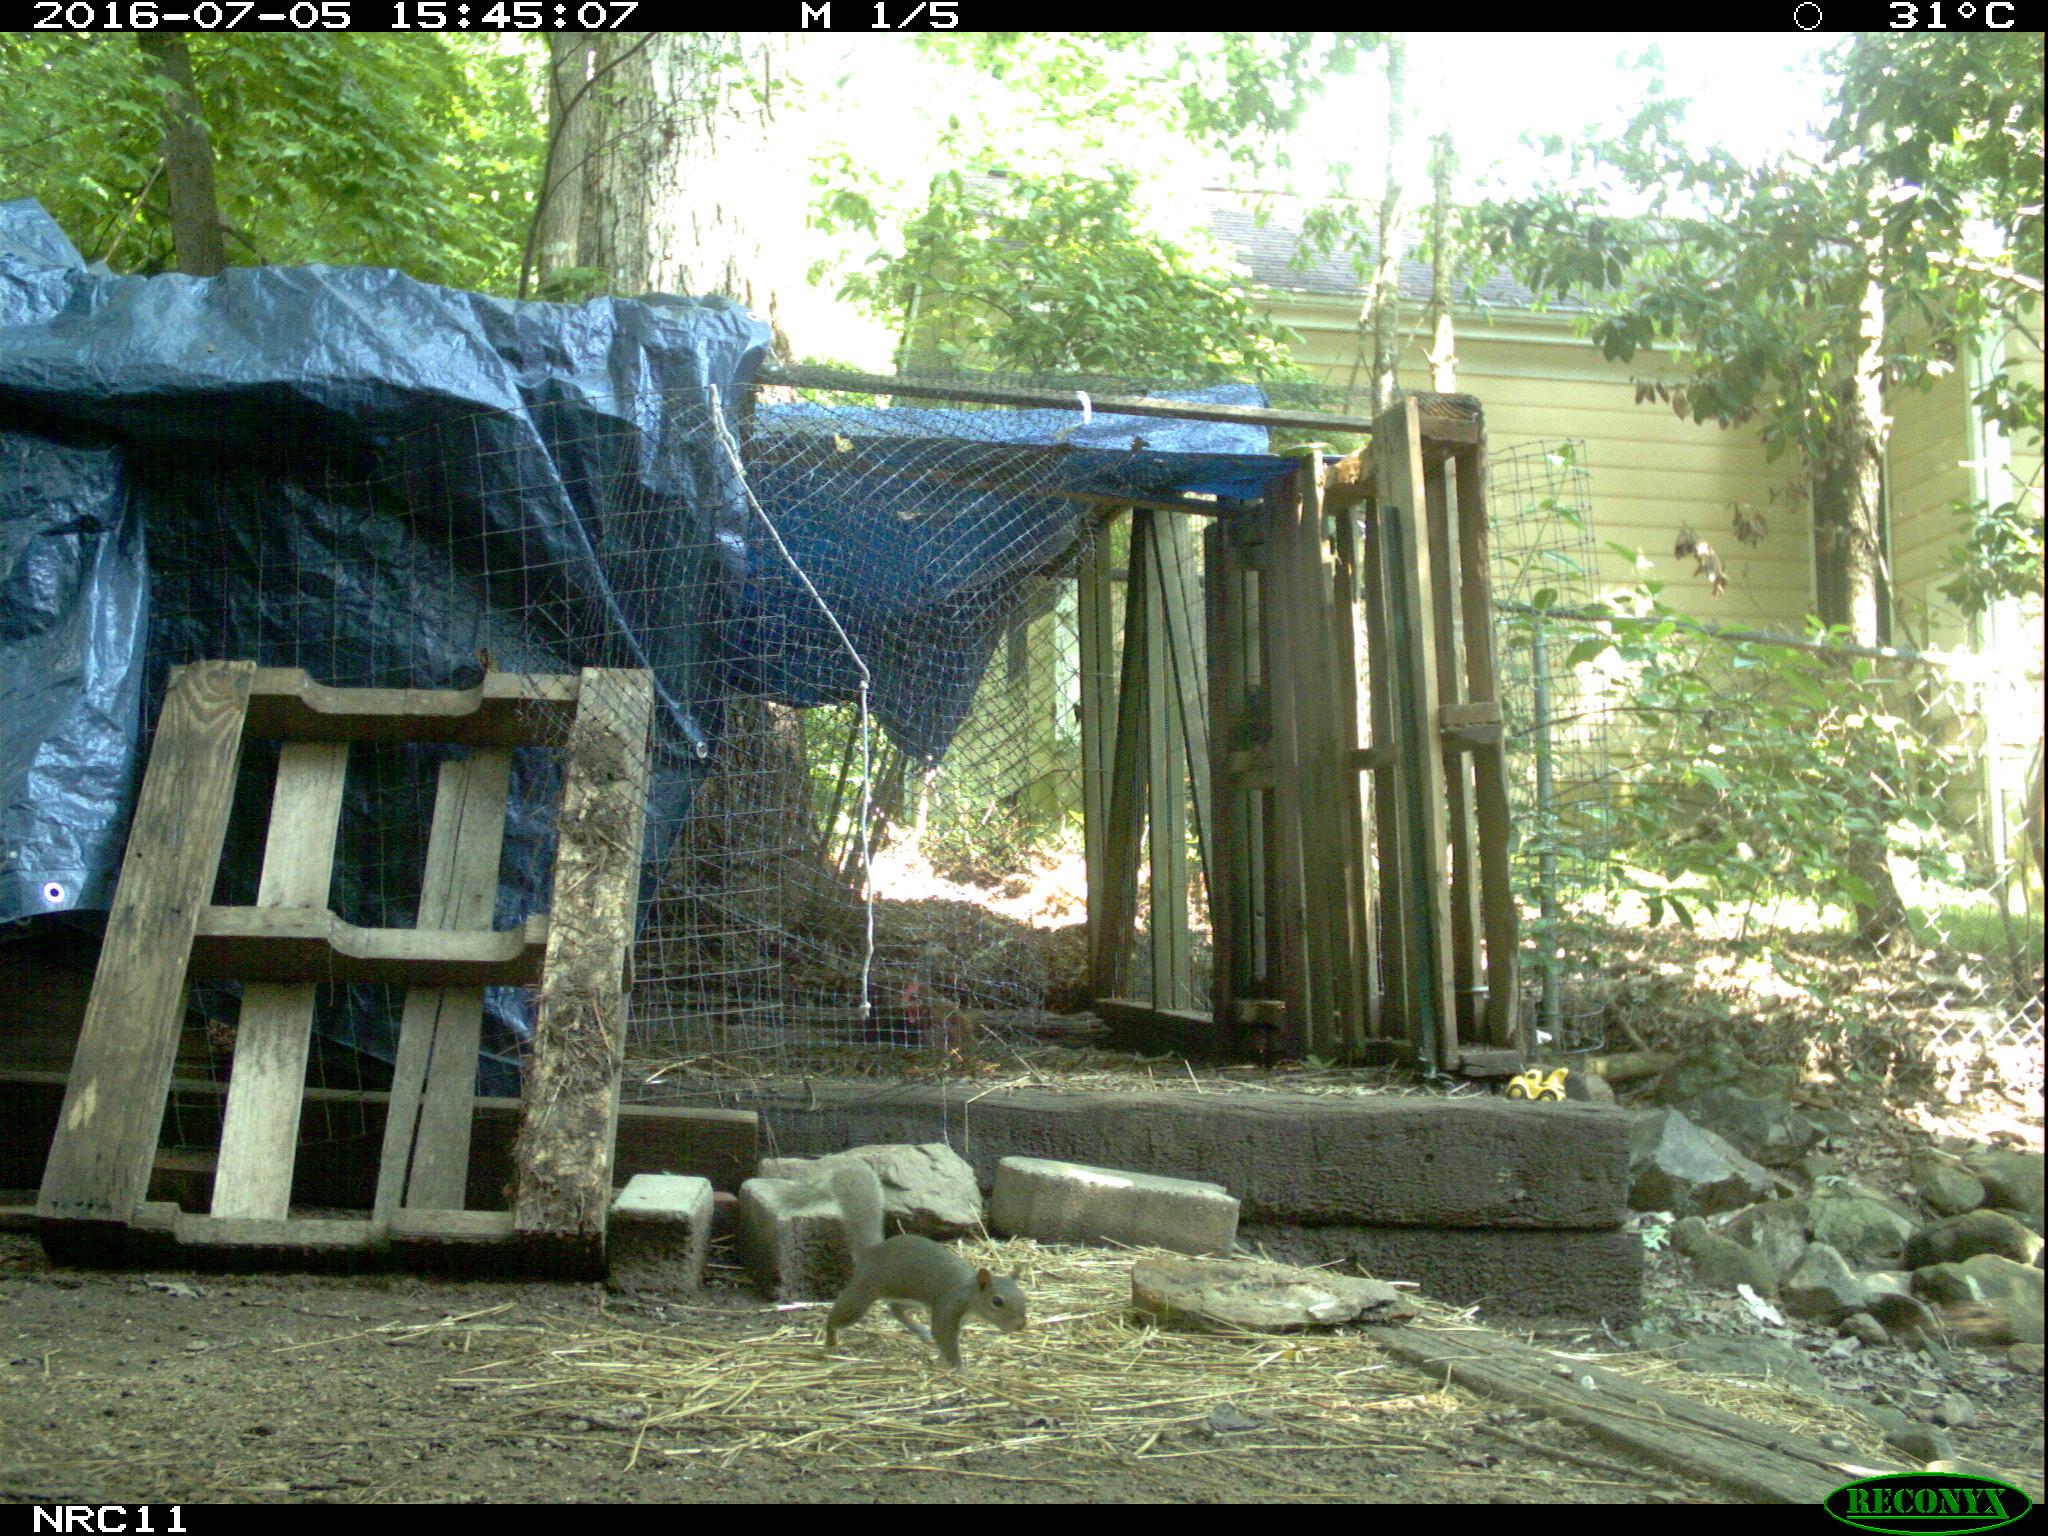Animal: (816, 1163, 1034, 1368)
